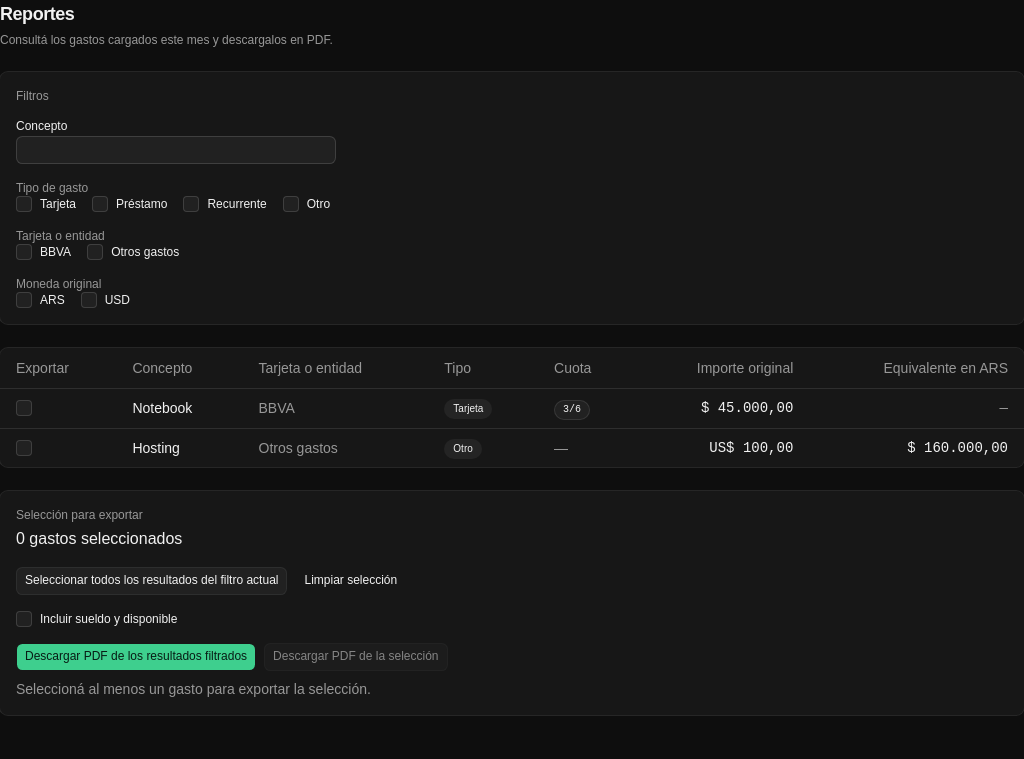
Test: ReportsPage › selecciona todos los resultados del filtro actual y los limpia
Click the button "Seleccionar todos los resultados del filtro actual" at (152, 581), box [16,567,288,595]
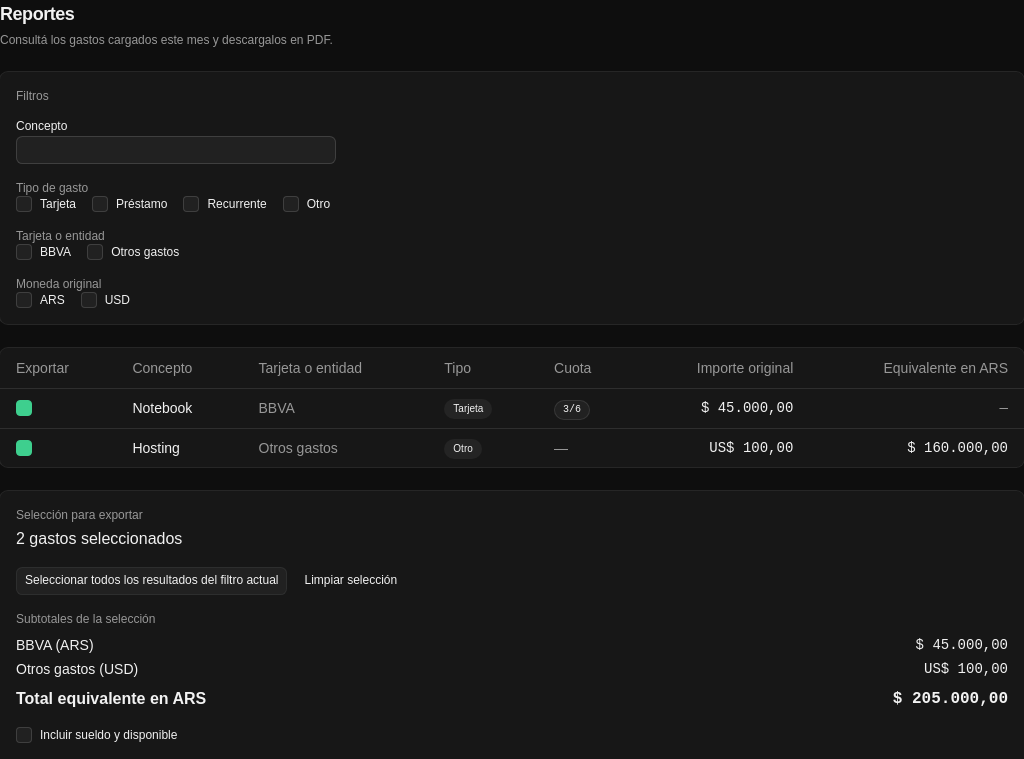
Check: the text "2 gastos seleccionados" is shown, box [16,530,182,547]
Check: the text "$ 205.000,00" is shown, box [893,687,1008,711]
Click the button "Limpiar selección" at (351, 581), box [296,567,406,595]
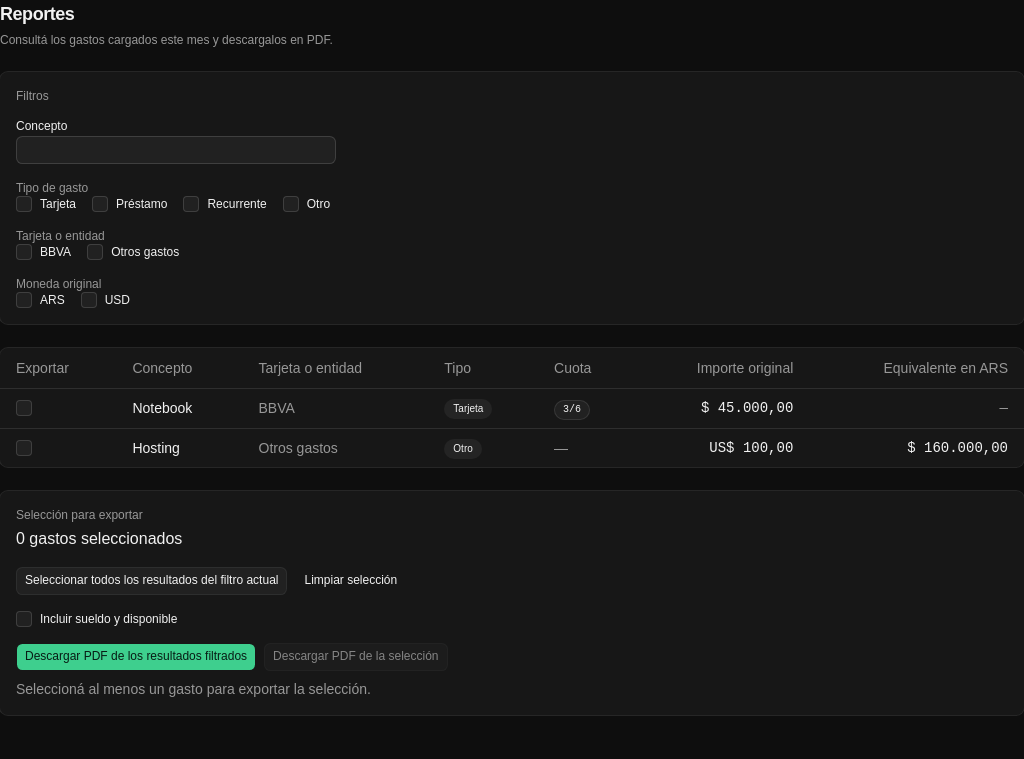
Check: the text "0 gastos seleccionados" is shown, box [16,530,182,547]
